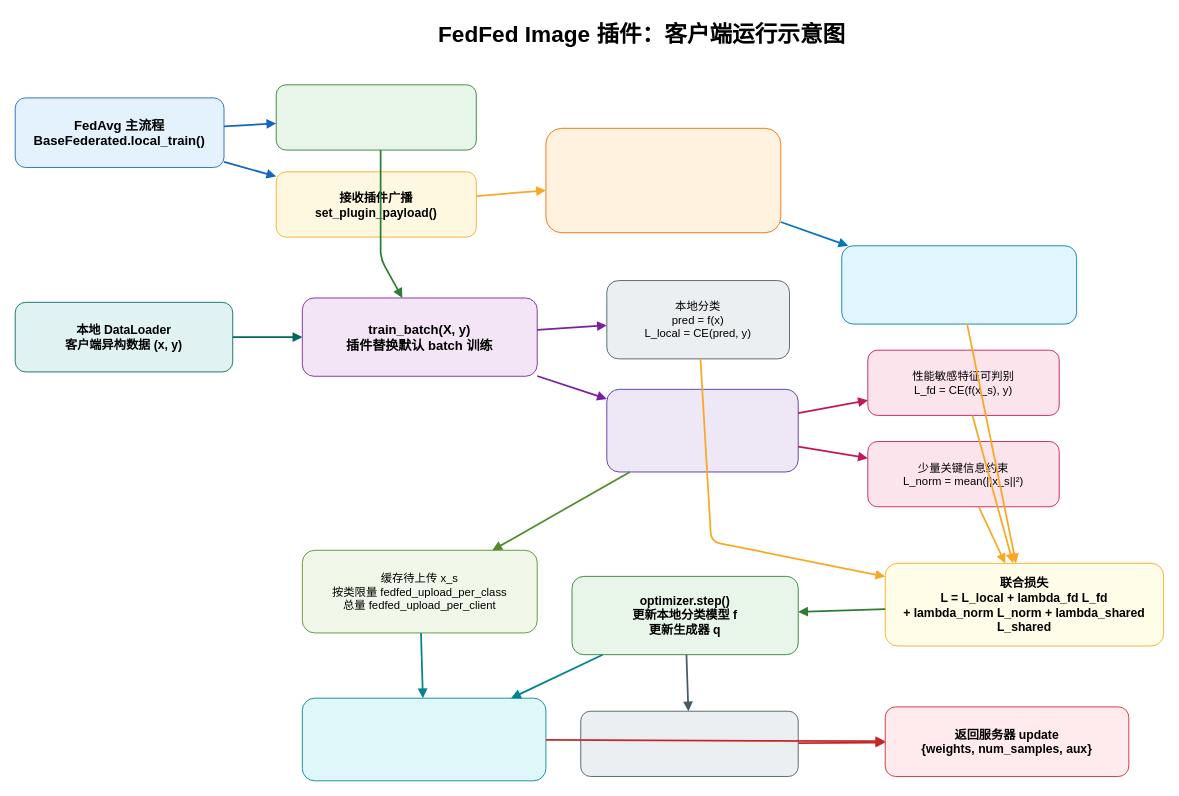
Some shapes in this 1179 by 796 pixel diagram are drawn without their labels. Here are the shapes that lost their labels. From the top down, the centre of each, then its label:
(375,117): 接收全局模型 set_model_parameters()
(663,180): on_round_start() 同步 generator_state 载入 shared_x / shared_y 清空本轮上传缓存
(959,284): 共享特征辅助训练 sample(shared_x, shared_y) L_shared = CE(f(shared_x), shared_y)
(702,430): FedFed 特征分离 x_r = q(x; theta) x_s = x - x_r
(423,739): build_upload_payload() generator_state sensitive_x, sensitive_y
(689,743): 上传 FedAvg 权重 get_model_parameters_cpu()
